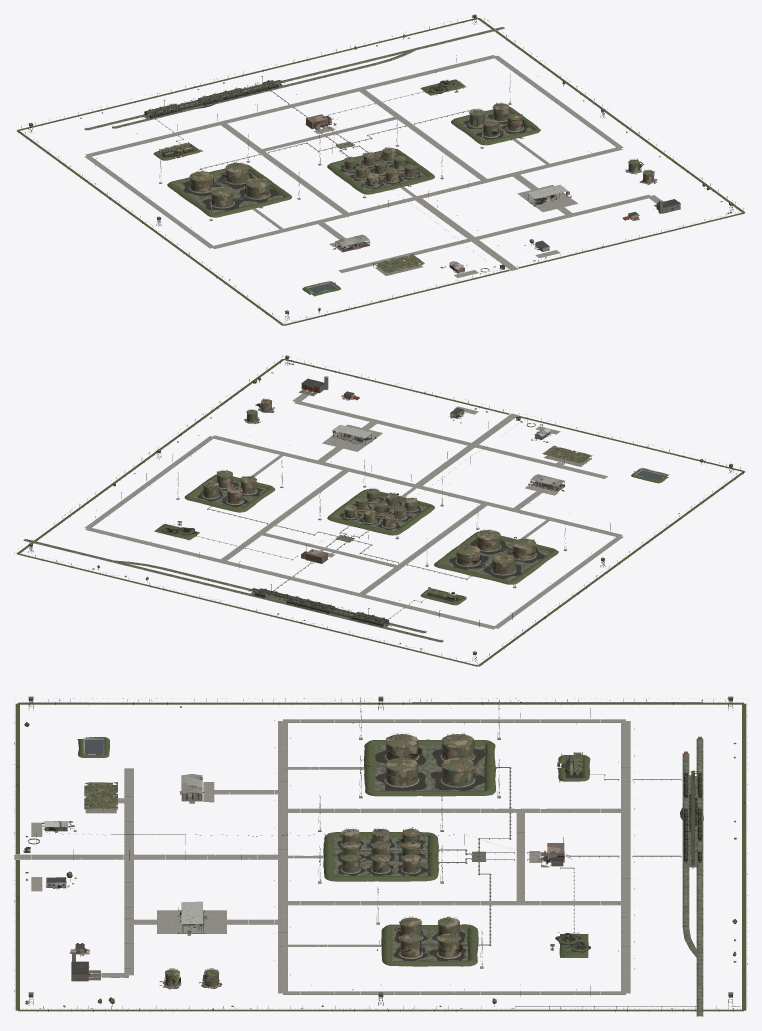
Rendered from site_fuel_city.glb.
3 renders of one model, top to bottom at view 1: azimuth 30°, elevation 25°; view 2: azimuth 150°, elevation 25°; view 3: azimuth 270°, elevation 25°, orthographic. The views are drawn at different scales.
Visible parts, largest first — view 1: deco|F_A, deco|tile_conc, b_rack|F_A; view 2: deco|F_A, deco|tile_conc, b_rack|F_A; view 3: deco|F_A, deco|tile_conc, b_t2|F_A, b_rack|F_A, b_t4|F_A, b_t3|F_A, b_t1|F_A, b_rgs|F_A, b_t4_ruin|F_B, b_stand|F_A, b_drums|F_A, b_t2_ruin|F_B.
Part boxes in pixels (<box>): deco|F_A: <box>16,14,745,325</box>; deco|tile_conc: <box>84,55,662,277</box>; b_rack|F_A: <box>142,76,284,118</box>; deco|F_A: <box>14,355,744,666</box>; deco|tile_conc: <box>85,391,623,629</box>; b_rack|F_A: <box>248,584,391,626</box>; deco|F_A: <box>14,696,747,1016</box>; deco|tile_conc: <box>14,719,630,994</box>; b_t2|F_A: <box>383,756,419,787</box>; b_rack|F_A: <box>686,770,699,868</box>; b_t4|F_A: <box>440,756,475,787</box>; b_t3|F_A: <box>440,733,475,760</box>; b_t1|F_A: <box>384,733,419,760</box>; b_rgs|F_A: <box>557,752,589,782</box>; b_t4_ruin|F_B: <box>430,769,484,790</box>; b_stand|F_A: <box>178,901,205,935</box>; b_drums|F_A: <box>181,774,202,803</box>; b_t2_ruin|F_B: <box>375,772,426,790</box>.
Size of the model in its own units: 532 by 34.79 by 525.
76 materials, 61 textured.
